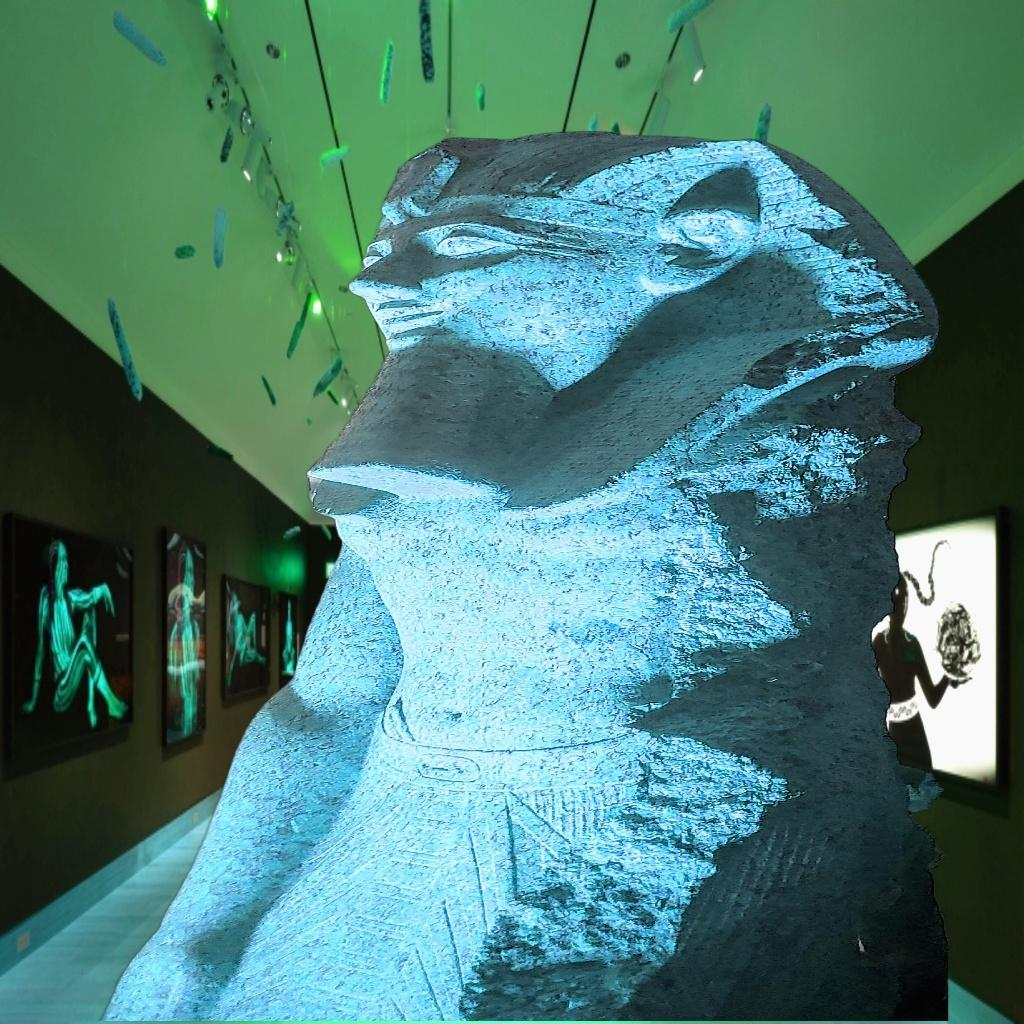Standing Statue of Thutmose III: (98, 128, 948, 1021)
